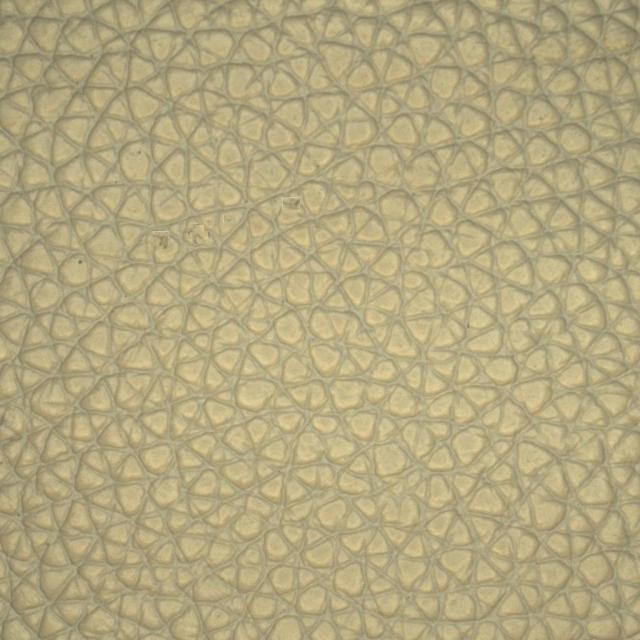pinhole: (81, 182, 267, 312), (256, 142, 379, 275)
